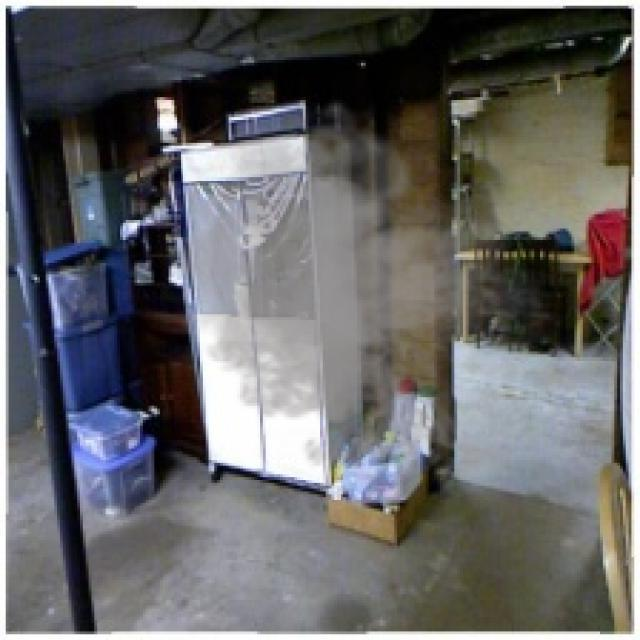Smoke: (152, 97, 568, 492)
